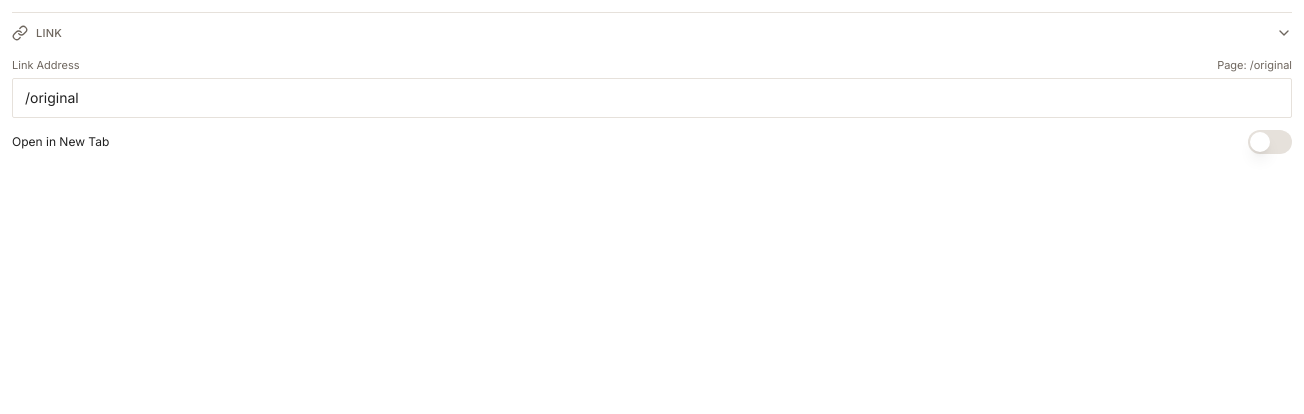
Test case: opens on the first click and reopens while already focused
Click the field labelled "Link Address": (652, 98) [12, 78, 1292, 118]
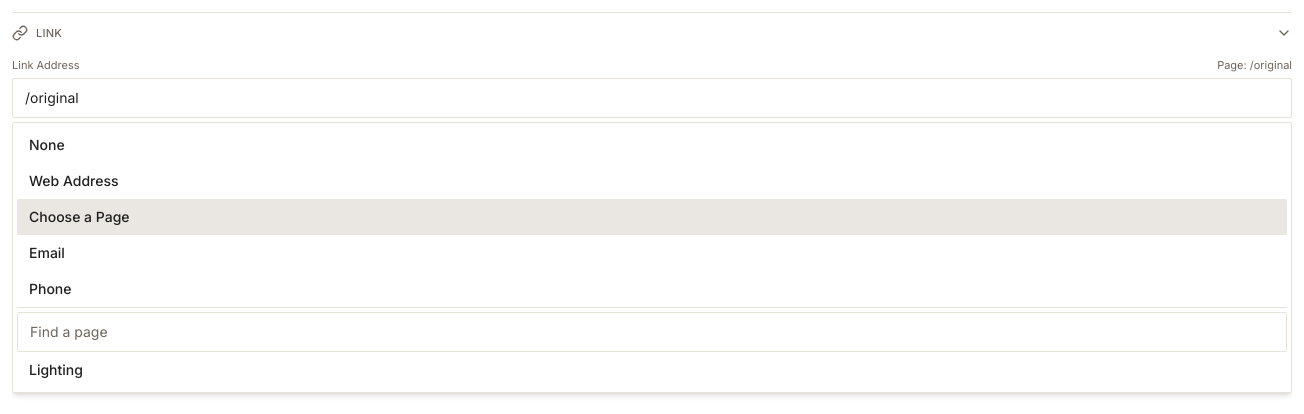
Press Escape in the field labelled "Link Address", box [12, 78, 1292, 118]
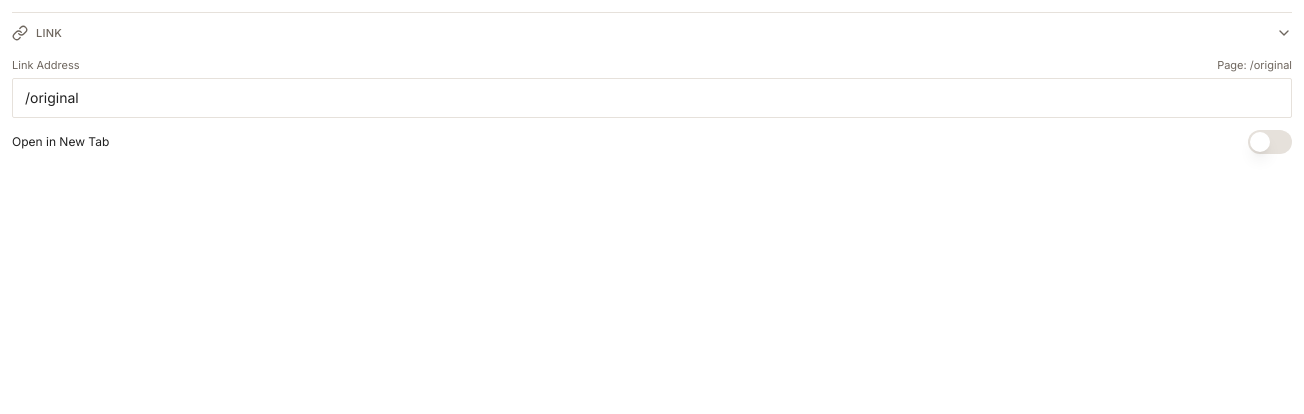
Click the field labelled "Link Address": (652, 98) [12, 78, 1292, 118]
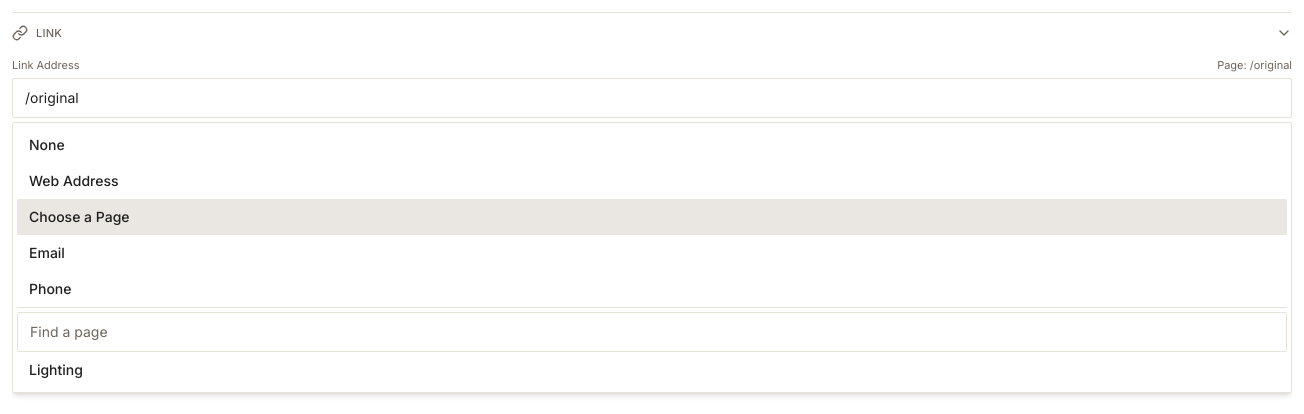
Expected: the element named "Link Address Options" is shown
